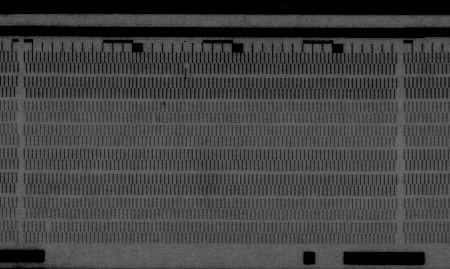Broken hole: (42, 221, 55, 234)
Oblique printing: (180, 63, 193, 78), (149, 111, 161, 123)
